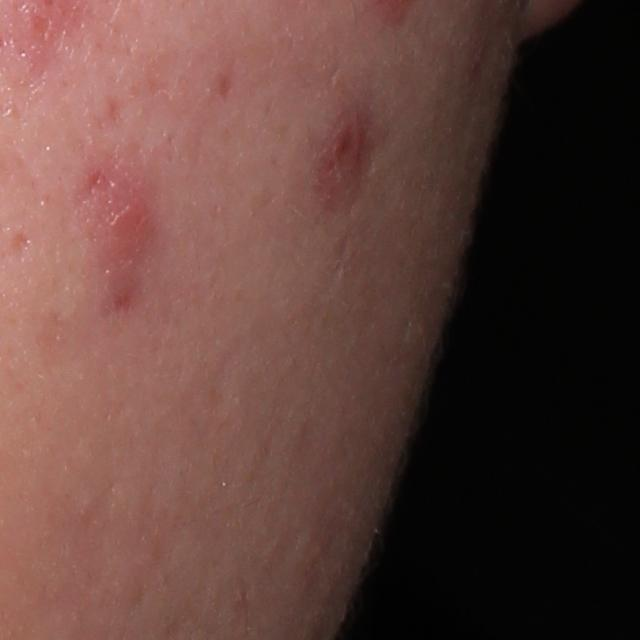papule: (313, 118, 379, 210), (99, 176, 154, 251)
